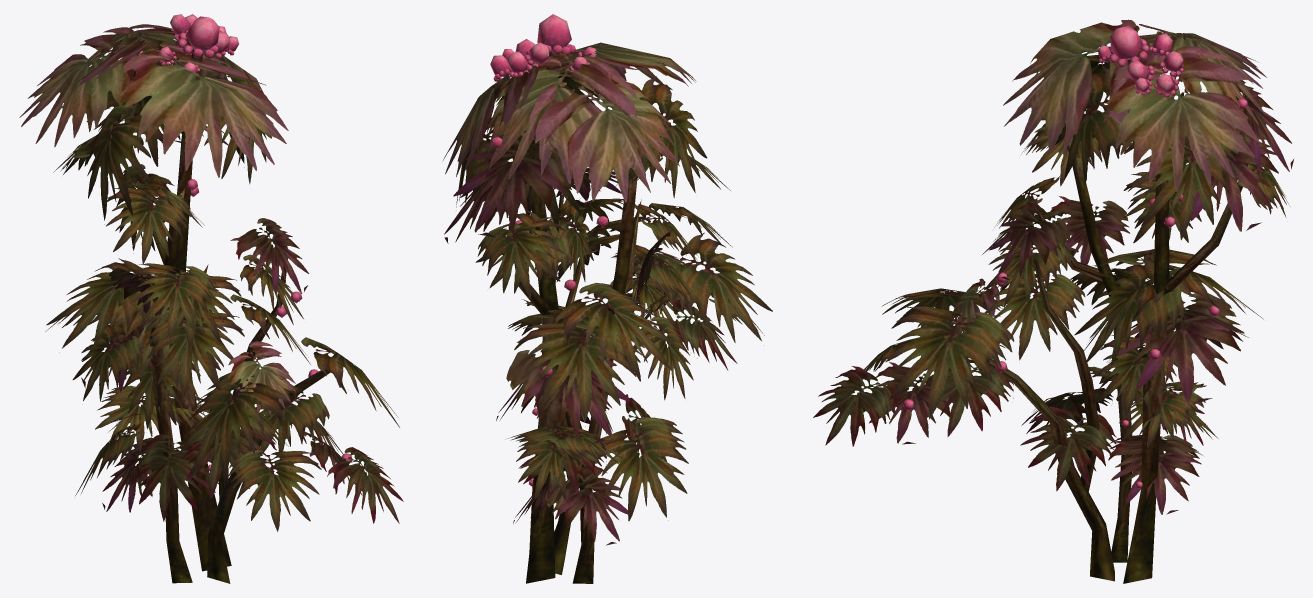
Rendered from S_Plant_Yellow016.FBX.
3 renders of one model, left to right at view 1: azimuth 30°, elevation 25°; view 2: azimuth 150°, elevation 25°; view 3: azimuth 270°, elevation 25°, orthographic. The views are drawn at different scales.
Visible parts, largest first — view 1: S_Plant_Yellow016; view 2: S_Plant_Yellow016; view 3: S_Plant_Yellow016.
Part boxes in pixels (x1,y1,x2,y2): S_Plant_Yellow016: [19, 14, 403, 583]; S_Plant_Yellow016: [443, 14, 772, 583]; S_Plant_Yellow016: [813, 19, 1293, 583].
Bounding box in the file's own units: 104 × 223 × 182.
